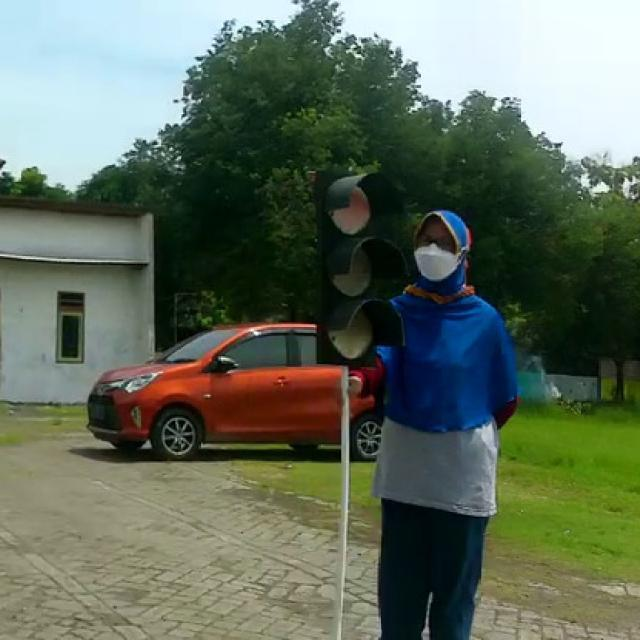red: (312, 170, 400, 366)
